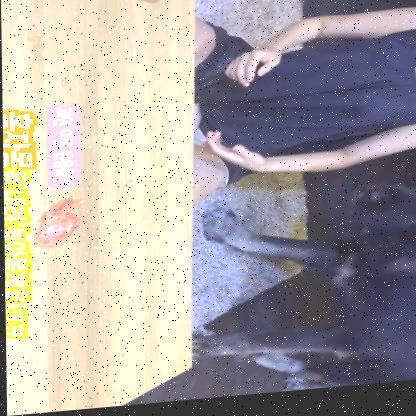streamer: (188, 5, 416, 210)
